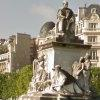Statue: (39, 2, 89, 45)
